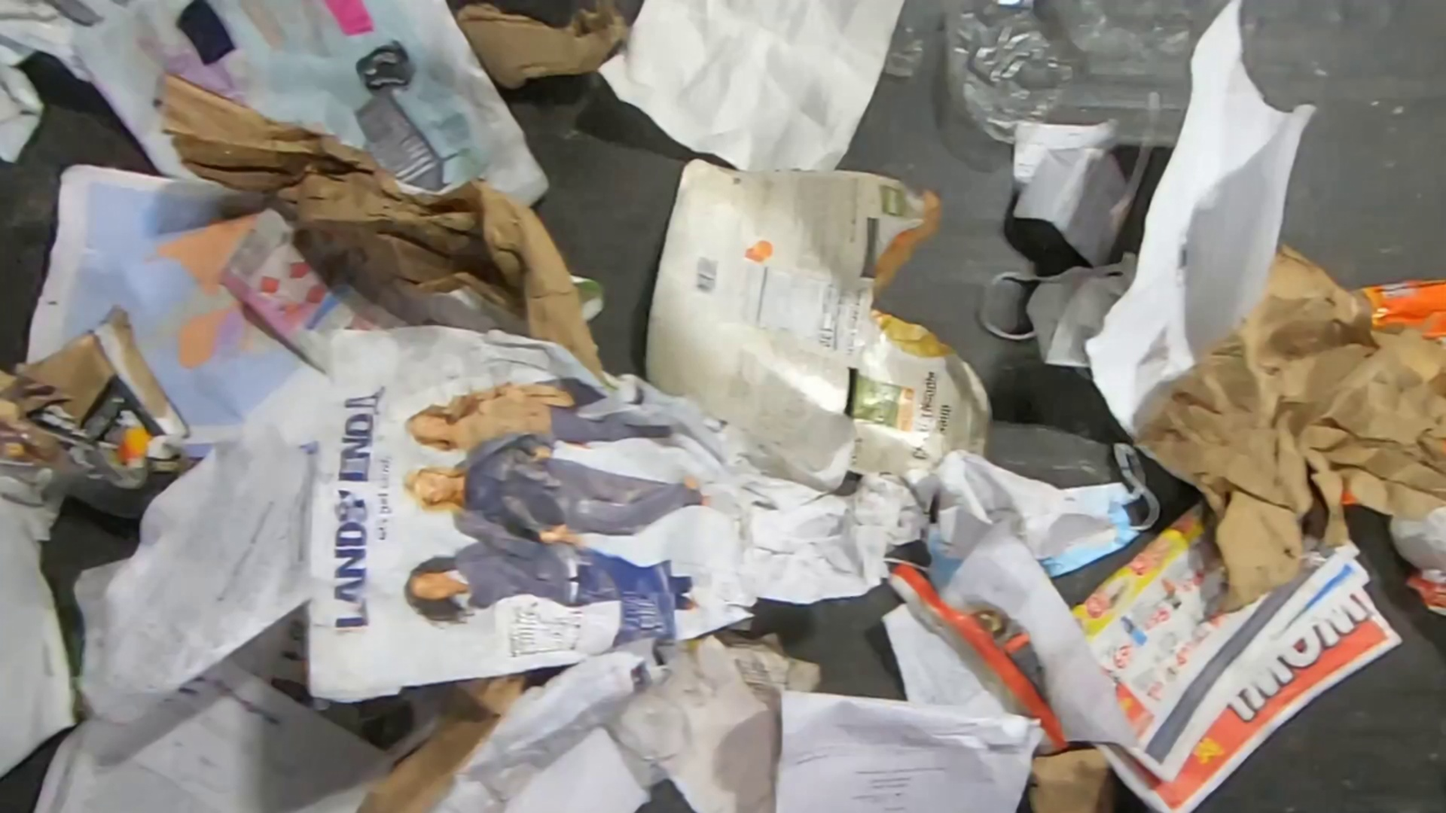cardboard: (158, 69, 608, 372), (640, 156, 994, 494), (1134, 239, 1446, 615), (355, 673, 529, 813), (455, 0, 630, 91), (1027, 747, 1120, 813)
plastic: (939, 0, 1084, 146), (882, 18, 928, 80)
